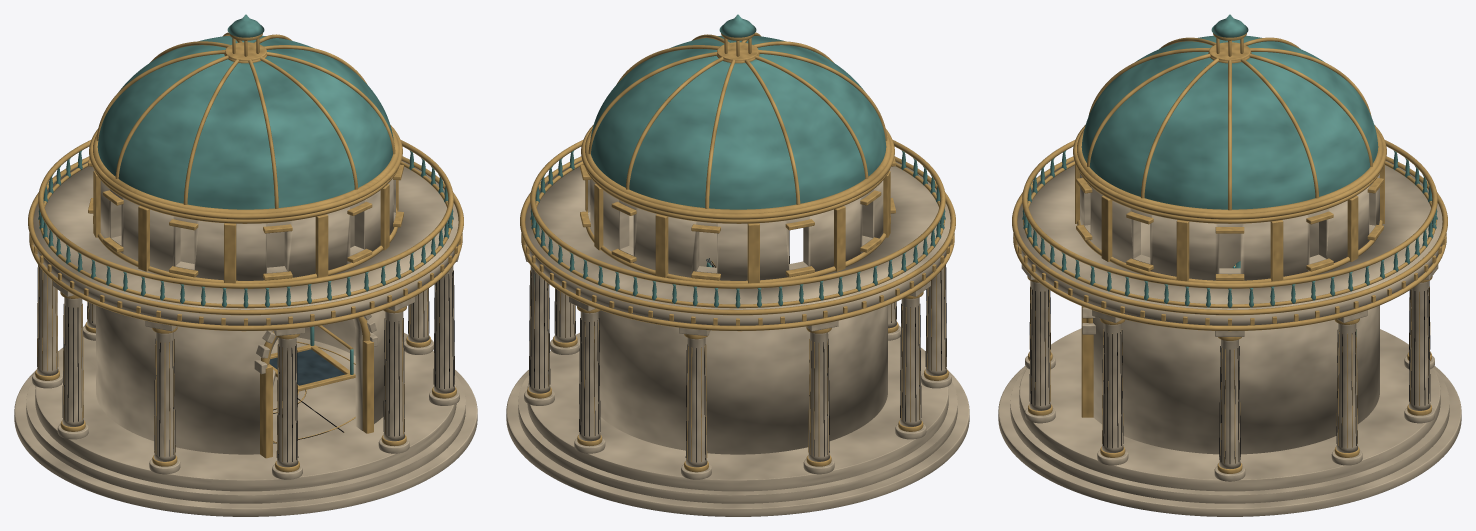
The model's file is lynx-temple-near.glb.
3 renders of one model, left to right at view 1: azimuth 30°, elevation 25°; view 2: azimuth 150°, elevation 25°; view 3: azimuth 270°, elevation 25°, orthographic.
Visible parts, largest first — view 1: TempleVisual; view 2: TempleVisual; view 3: TempleVisual.
Boxes of the visible parts, left/top/right/bottom form: TempleVisual: left=14, top=14, right=477, bottom=516; TempleVisual: left=506, top=14, right=969, bottom=516; TempleVisual: left=998, top=14, right=1461, bottom=516.
Size of the model in its own units: 10.8 by 11.6 by 10.8.
Materials: 6 (6 with a texture image).
